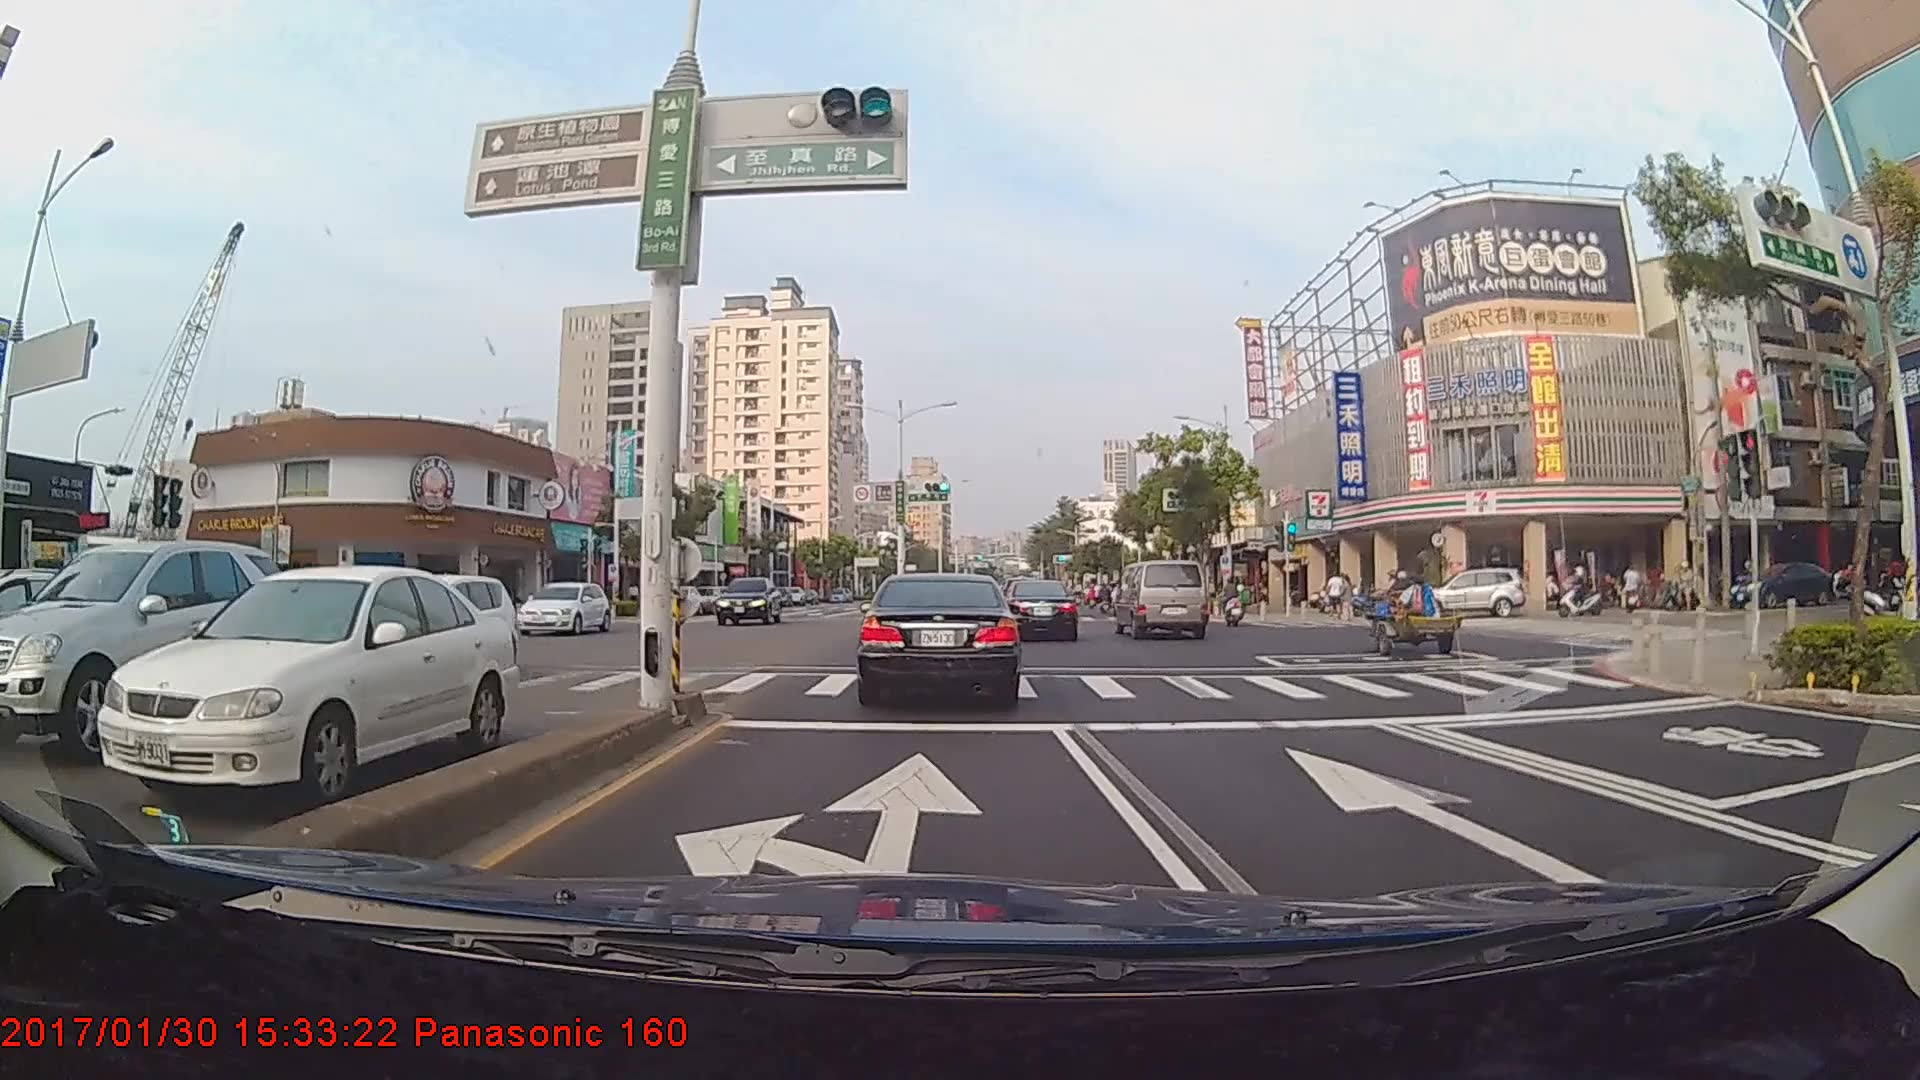pedestrian: (1326, 570, 1346, 620)
rider: (1553, 561, 1613, 624), (1214, 578, 1251, 631)
vehicle: (95, 558, 493, 817), (0, 535, 292, 752), (859, 567, 1020, 706), (348, 570, 518, 677), (0, 562, 85, 706), (1116, 559, 1211, 641), (1407, 570, 1526, 621), (511, 580, 608, 637), (1000, 579, 1079, 642), (714, 576, 782, 626)
